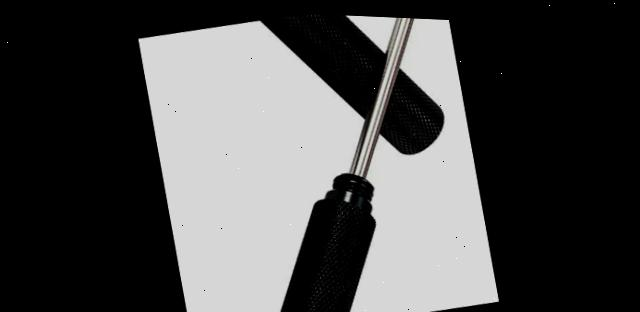ice pick: (133, 5, 503, 312)
